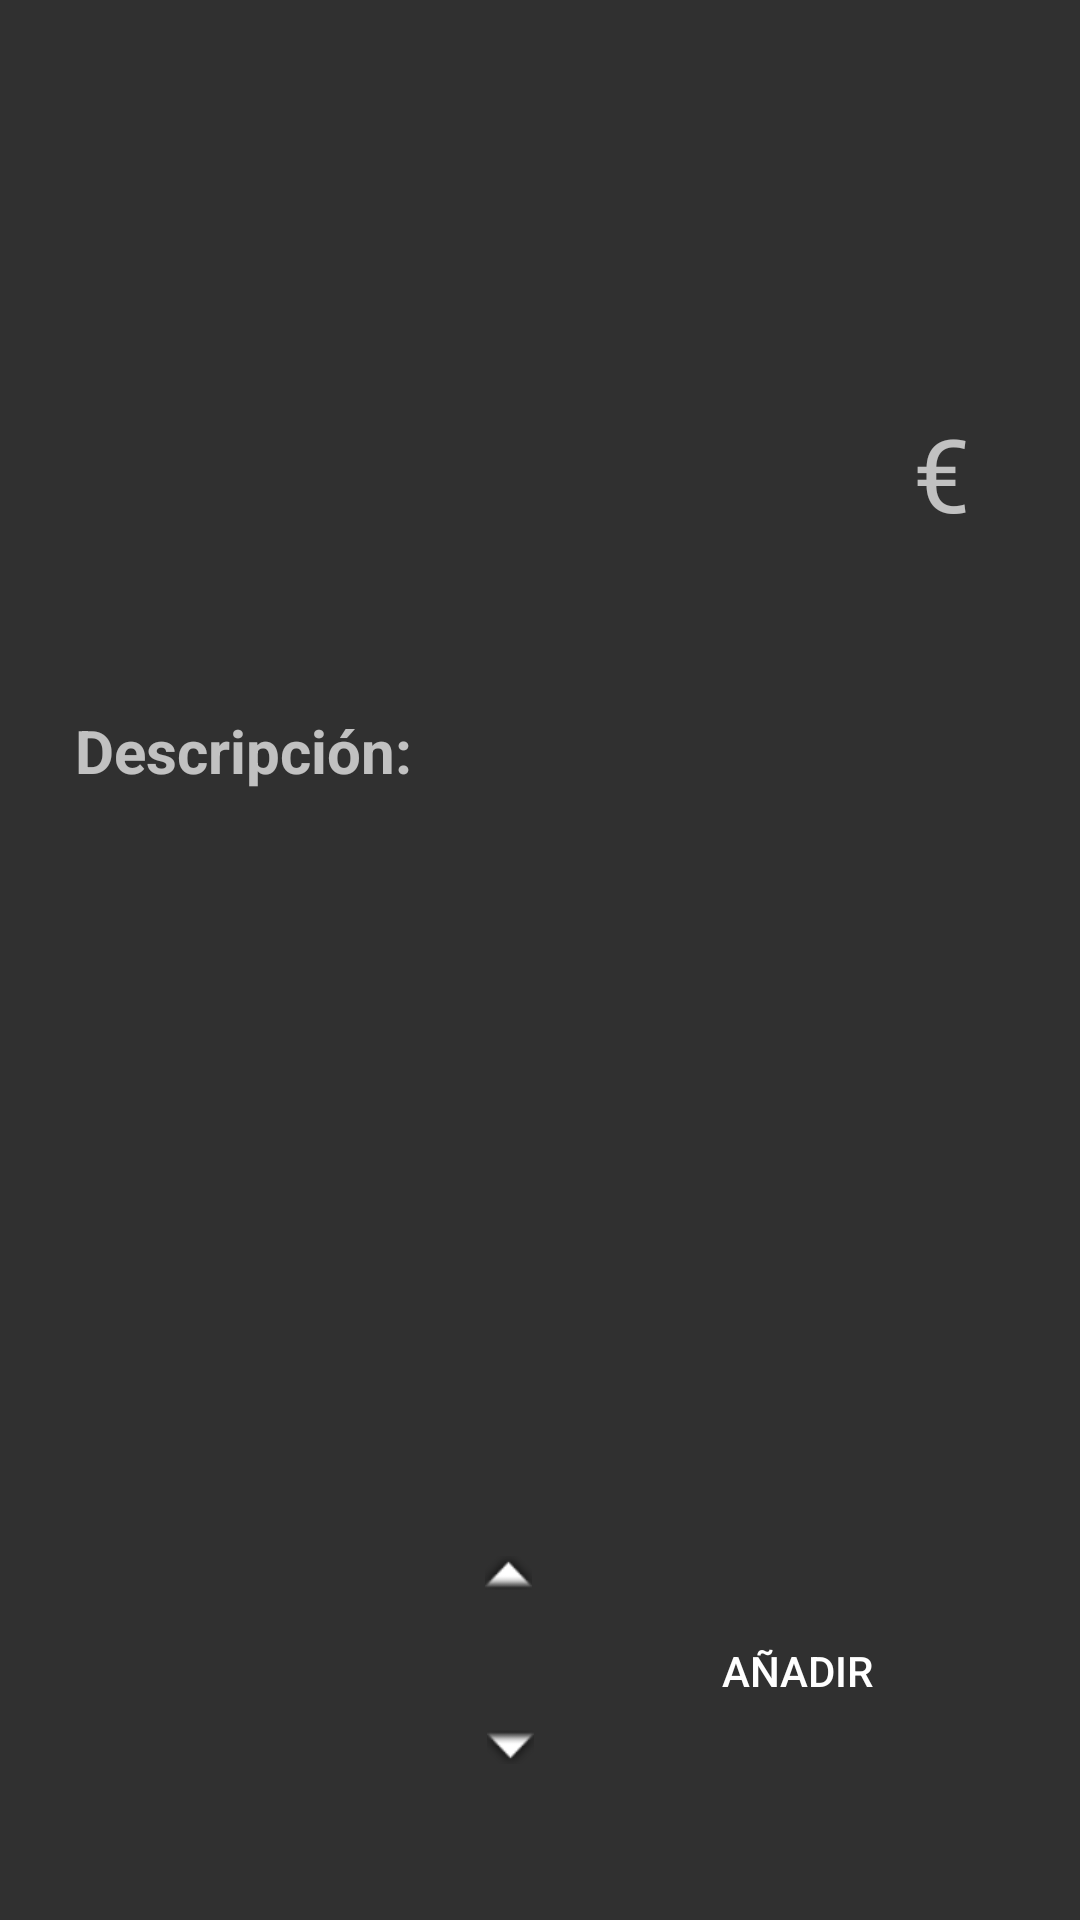

Screen size 1080px×1920px. Icon name, then its box in pixels as (x1, y1, x2, y2):
arrow down float: (489, 1734, 532, 1758)
arrow up float: (487, 1562, 530, 1586)
